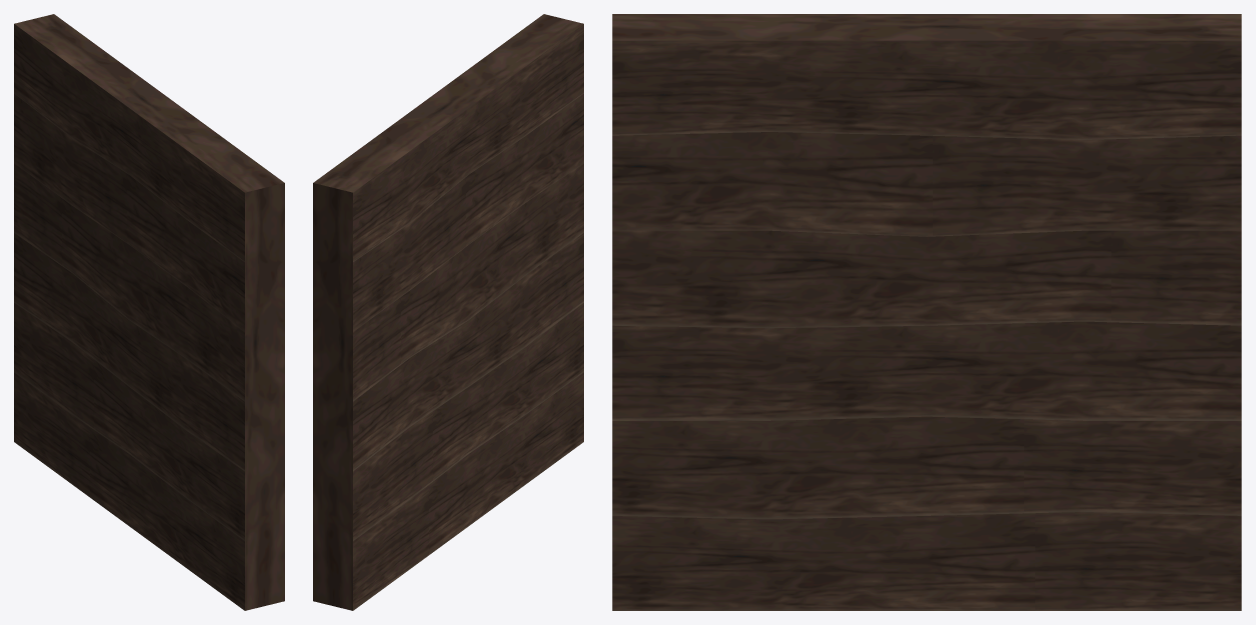
The model's file is Wall_Wood.fbx.
The picture shows the model from 3 angles, left to right: view 1: azimuth 30°, elevation 25°; view 2: azimuth 150°, elevation 25°; view 3: azimuth 270°, elevation 25°; orthographic projection. The views are drawn at different scales.
Parts seen in each view (by area): view 1: Cube.013; view 2: Cube.013; view 3: Cube.013.
Boxes of the visible parts, box(x1,y1,x2,y2) form: Cube.013: box(14, 14, 284, 610); Cube.013: box(313, 14, 583, 610); Cube.013: box(612, 14, 1241, 610).
Size of the model in its own units: 0.5 by 5 by 5.
